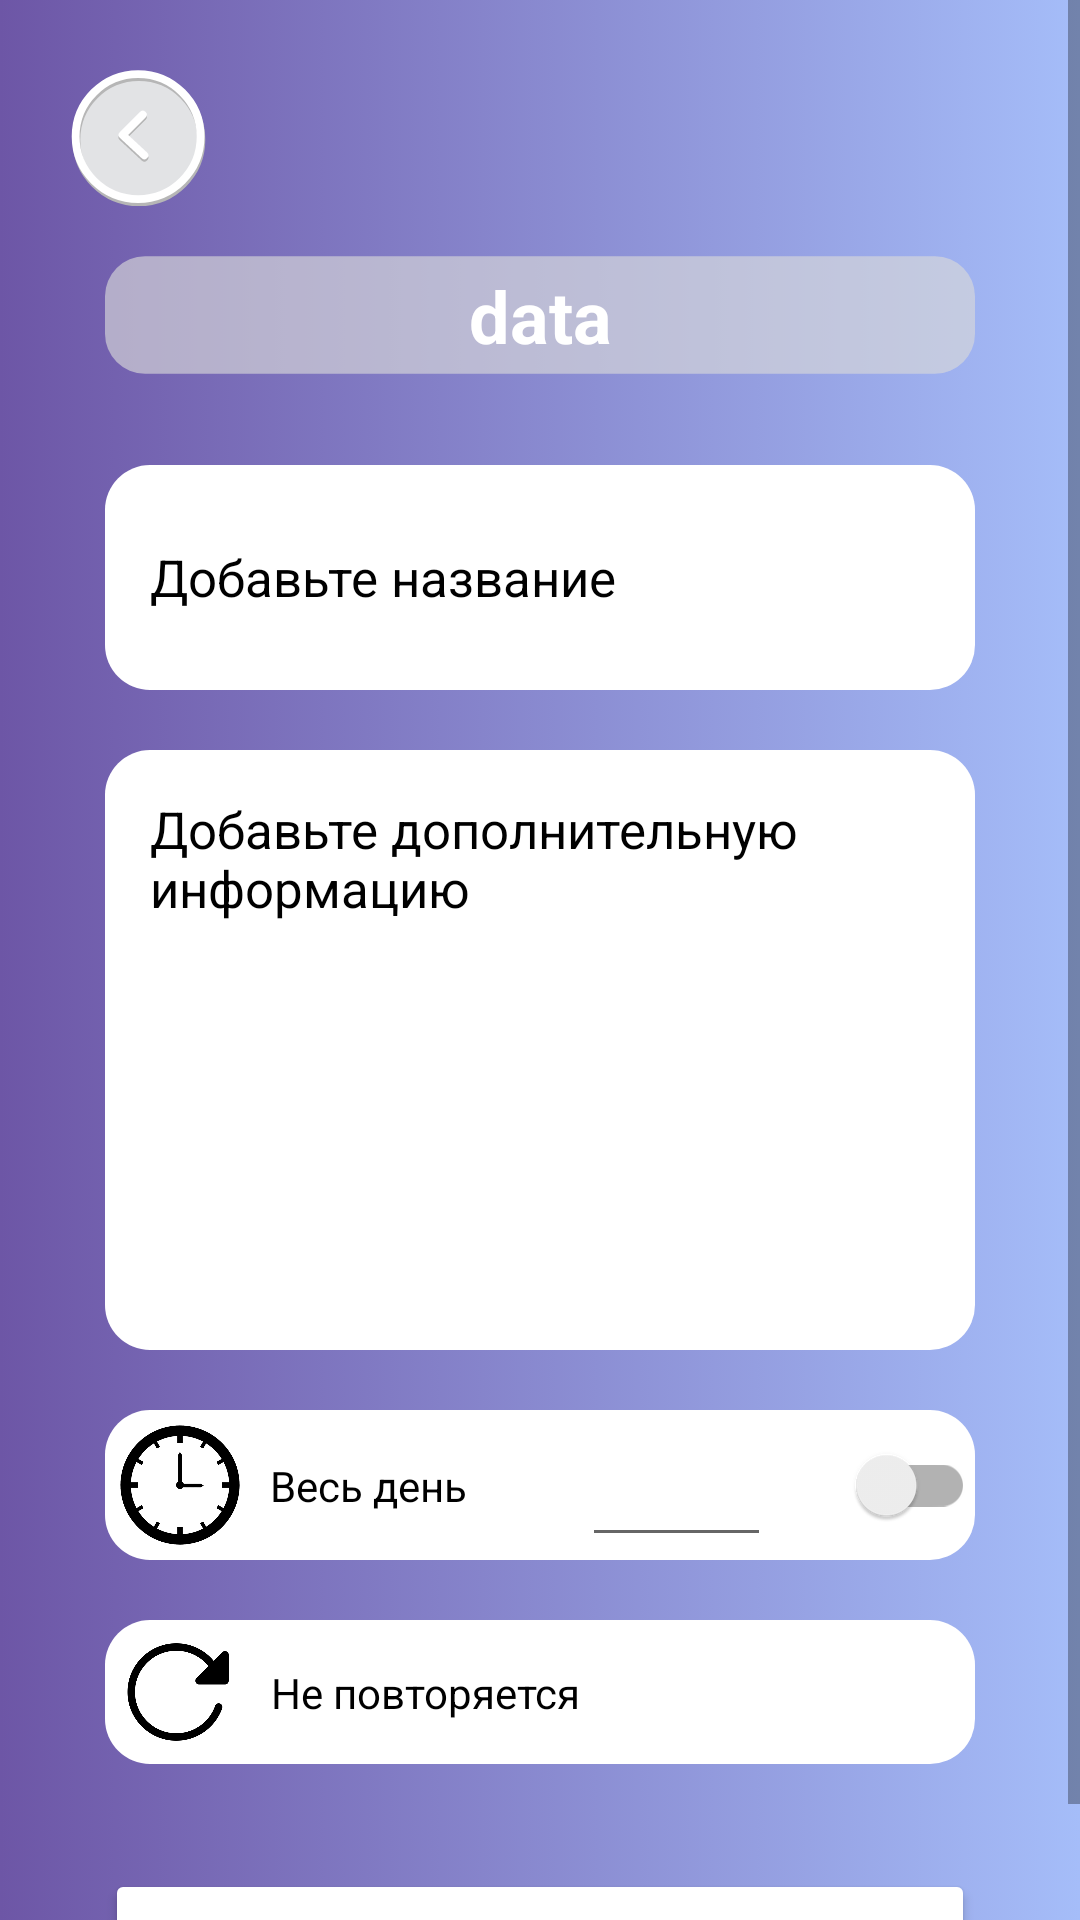

Icon click points for this 1080w x 1920h phone screenshot, format (x=x, y=y):
clocks: (x=180, y=1485)
reload: (x=178, y=1692)
